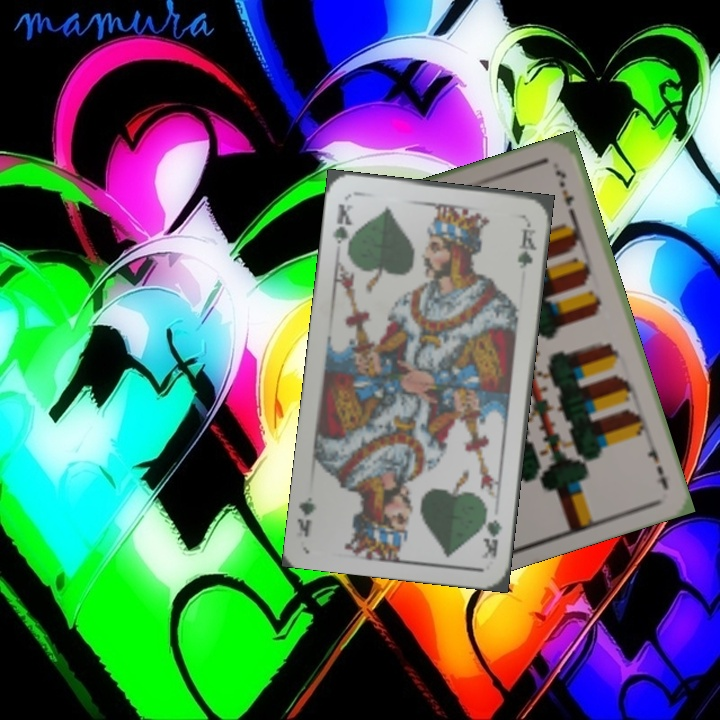E7: (642, 436, 671, 493)
GK: (477, 504, 505, 562), (328, 199, 356, 256)
